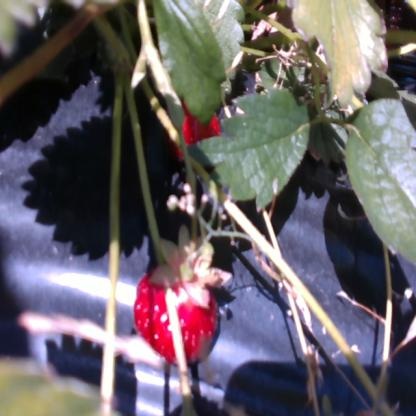ripe: (130, 256, 226, 372), (171, 82, 230, 169)
